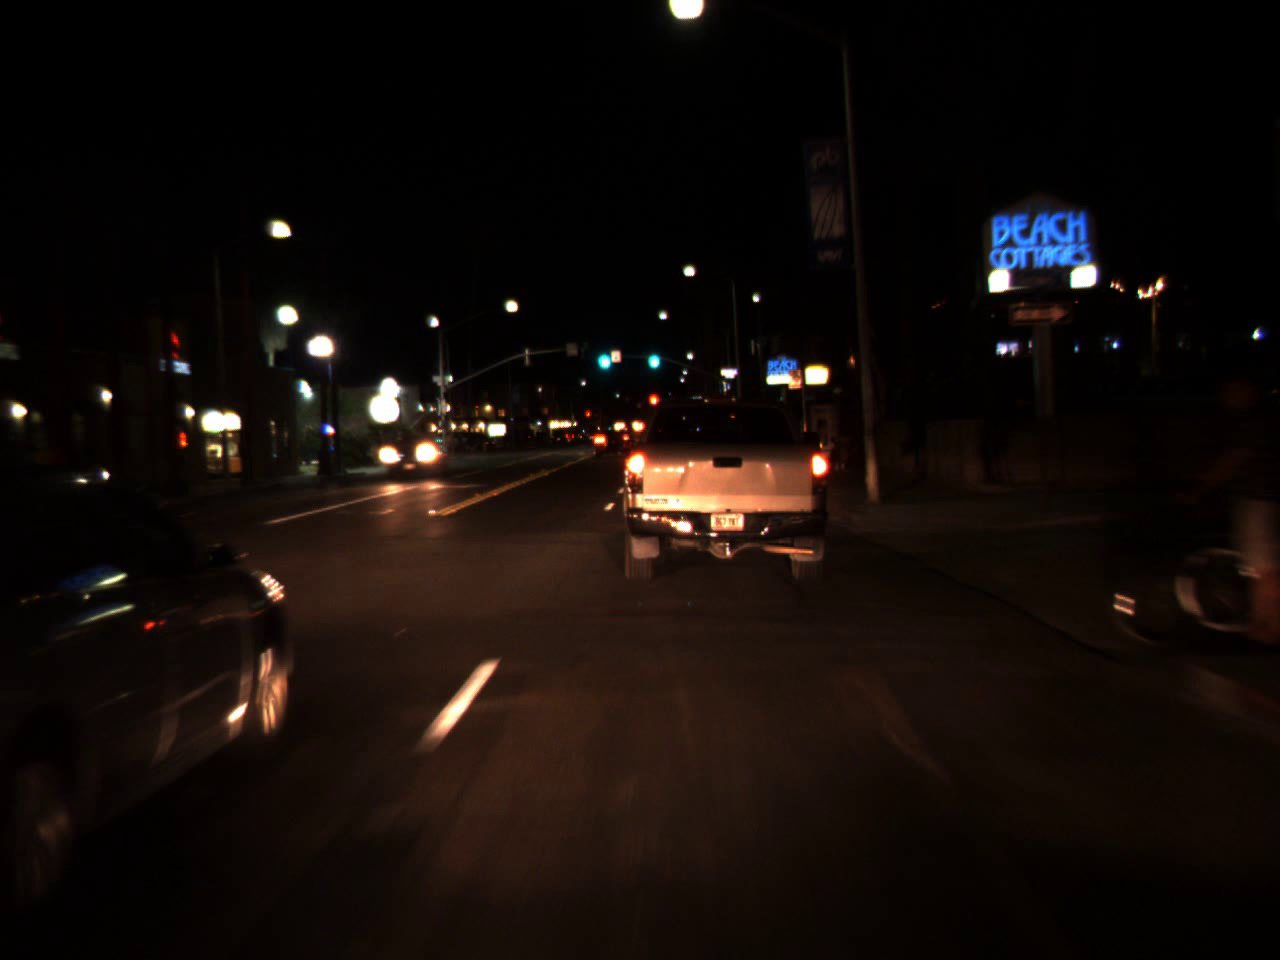go: (593, 335, 612, 374), (644, 338, 662, 374)
